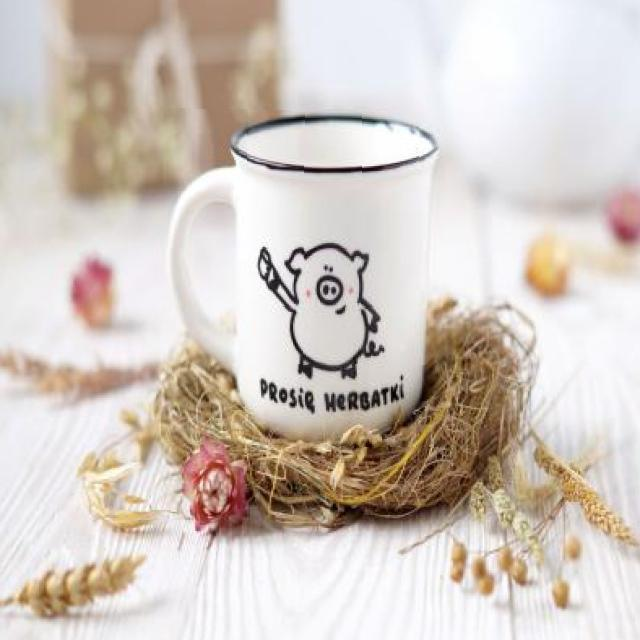cup: (161, 108, 445, 448)
